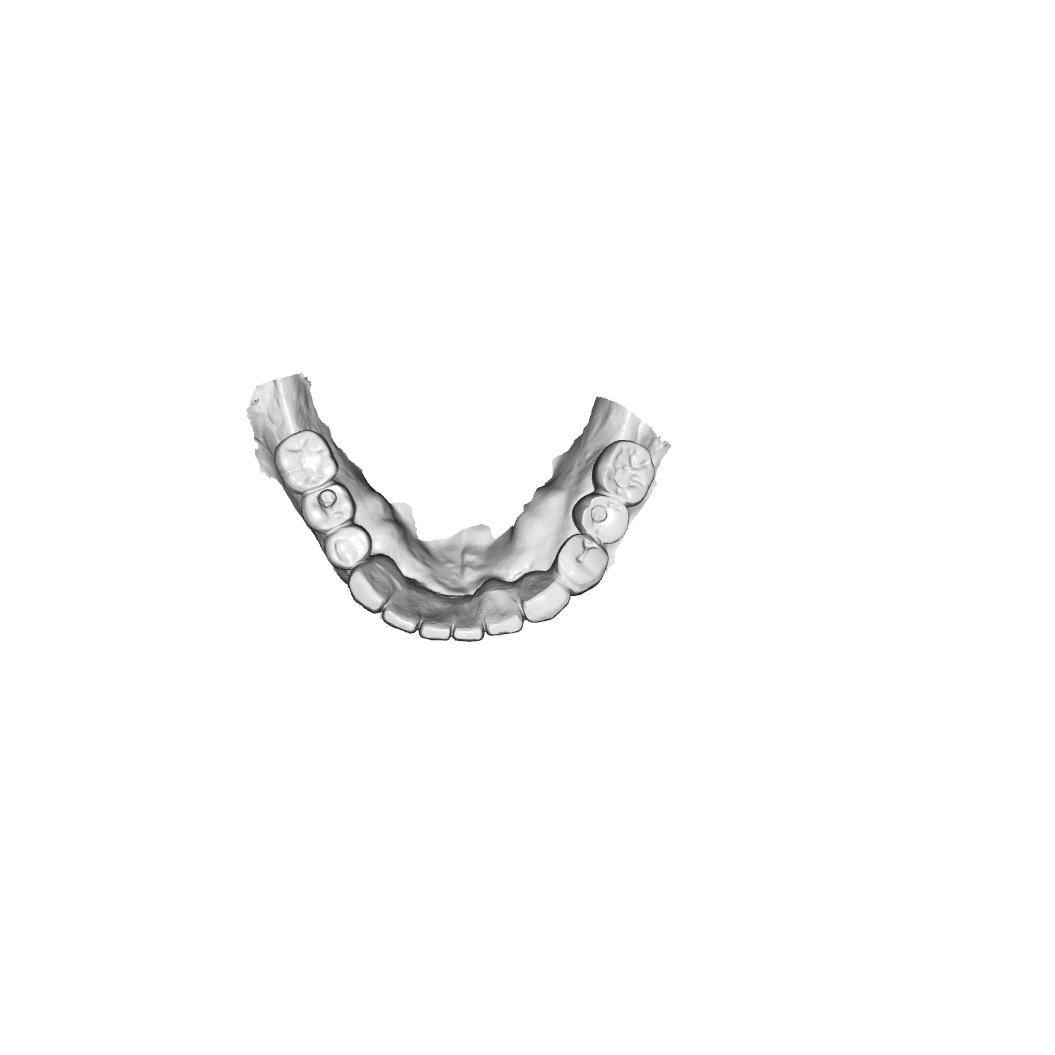canine: (520, 572, 572, 624), (346, 560, 395, 615)
incisor: (381, 594, 423, 635), (484, 594, 524, 637), (418, 602, 454, 642), (451, 605, 487, 643)
molar: (591, 439, 657, 508), (273, 428, 340, 495)
premolar: (554, 532, 610, 597), (570, 492, 631, 546), (300, 481, 358, 534), (323, 523, 374, 571)
